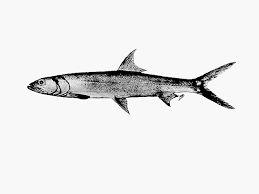Indo-Pacific Tarpon: (27, 48, 236, 114)
